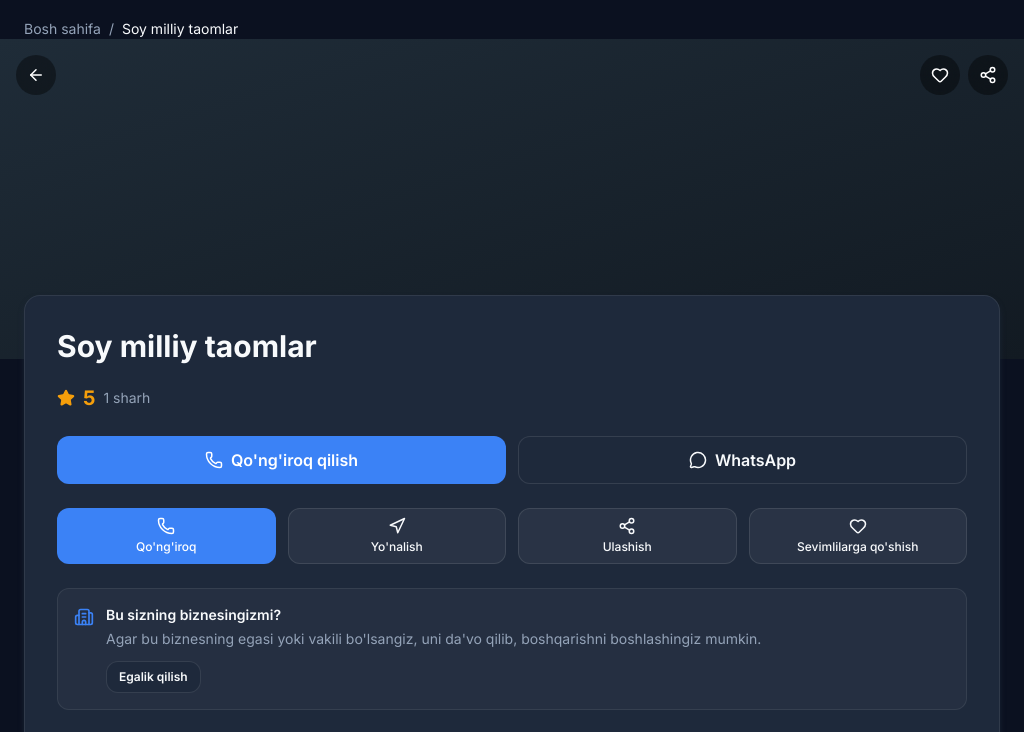
Test: ClaimBusinessSection › shows the claim-specific conflict message when the backend returns 409
Click the button "Egalik qilish". click: (153, 677)
box: [106, 661, 201, 693]
(page scrolled)
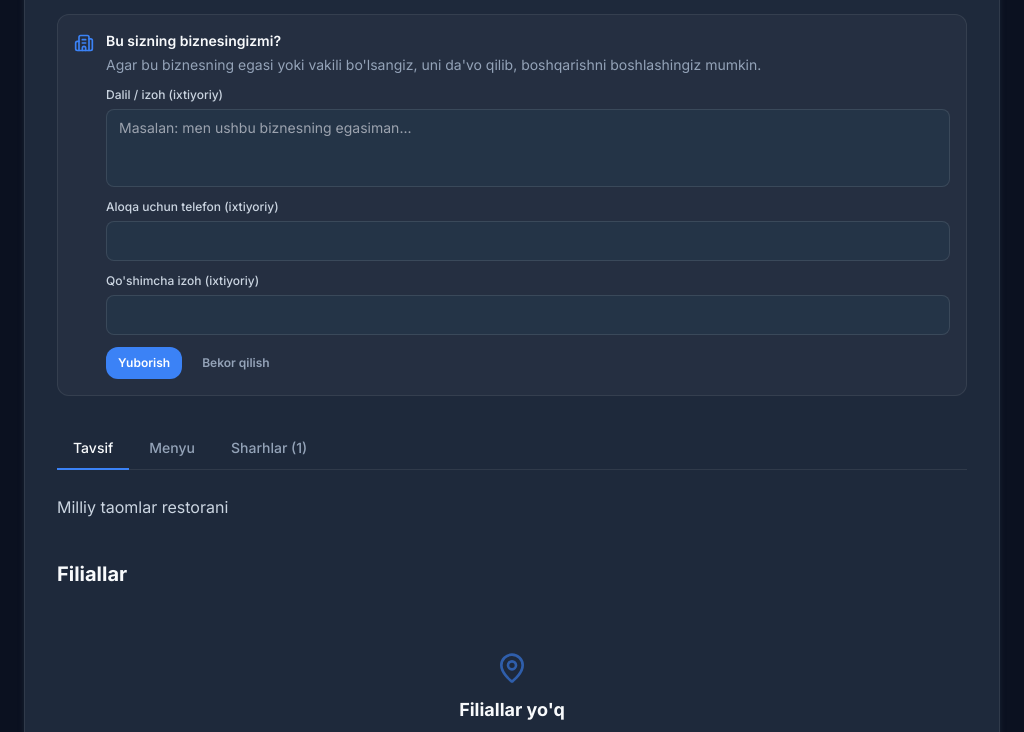
Click the button "Yuborish". click: (144, 363)
box: [106, 347, 182, 379]
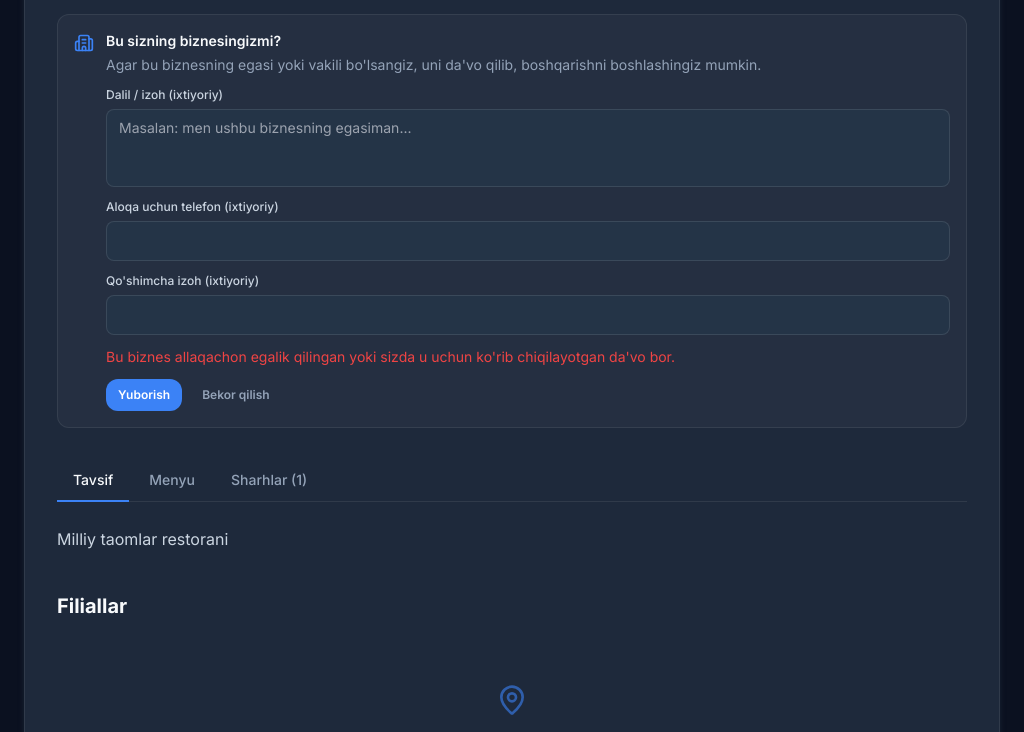
Now the text "Bu biznes allaqachon egalik qilingan yoki sizda u uchun ko'rib chiqilayotgan da'vo bor." is shown, box [106, 348, 675, 365]
